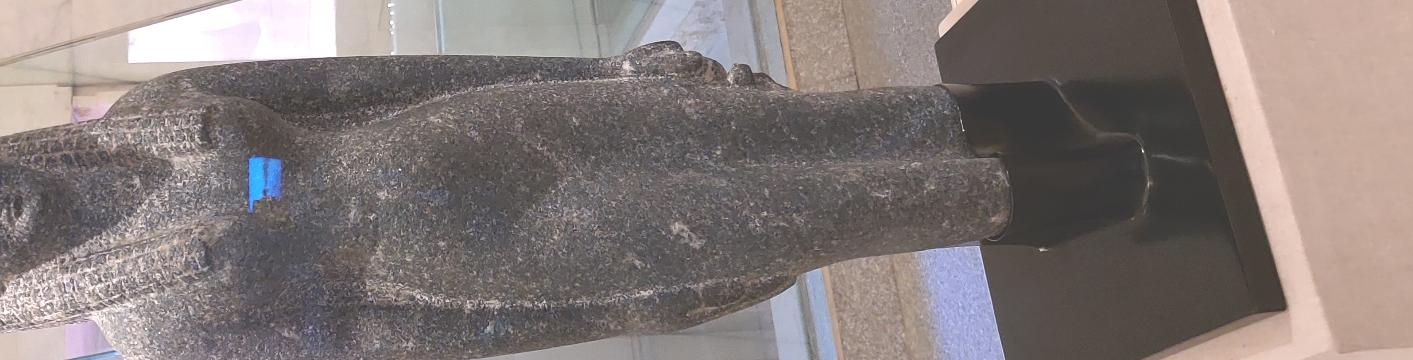RoyalStatues: (0, 0, 320, 144)
